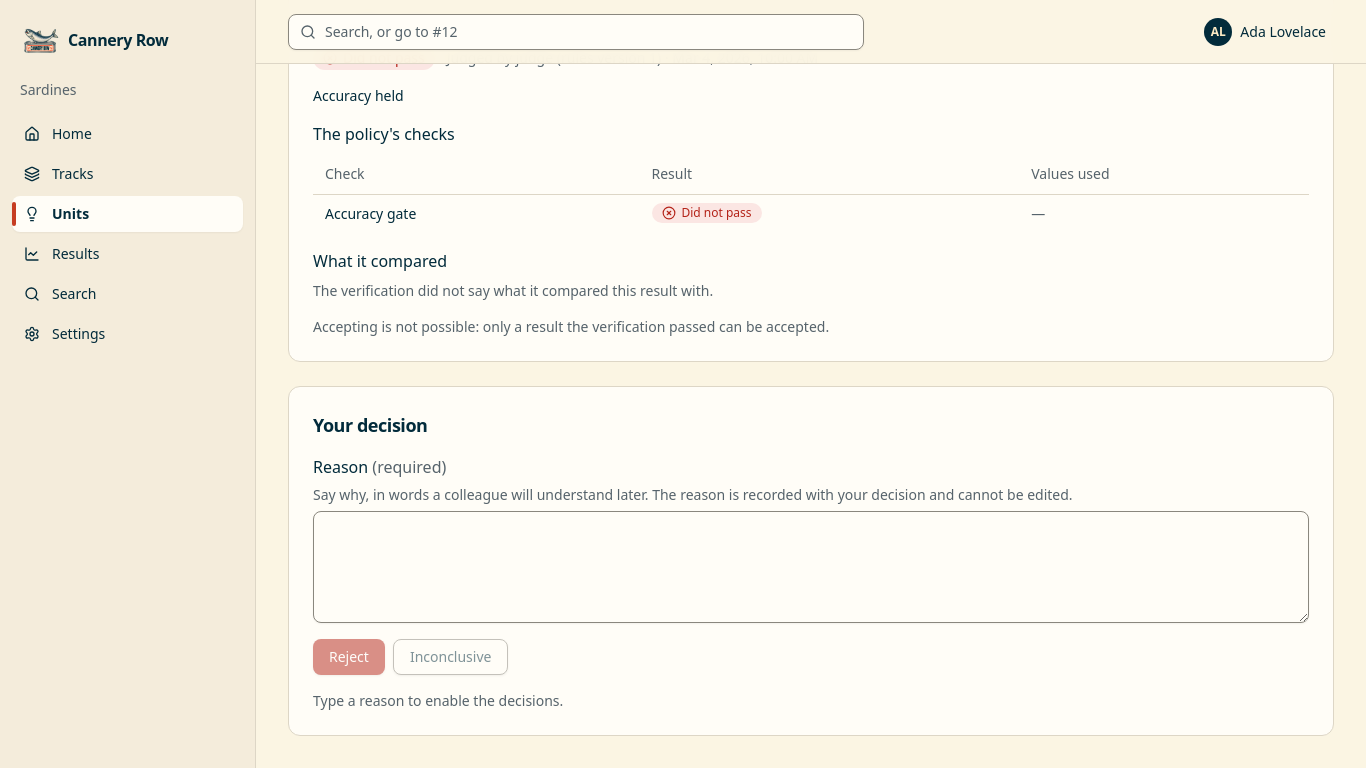
Test case: reviewing a result › shows a skipped write-up's reason and cites no write-up
The width and height of the screenshot is (1366, 768).
(page scrolled)
Type "Below the bar" into the text box labelled "Reason (required)" at (811, 567), box [313,511,1309,623]
(page scrolled)
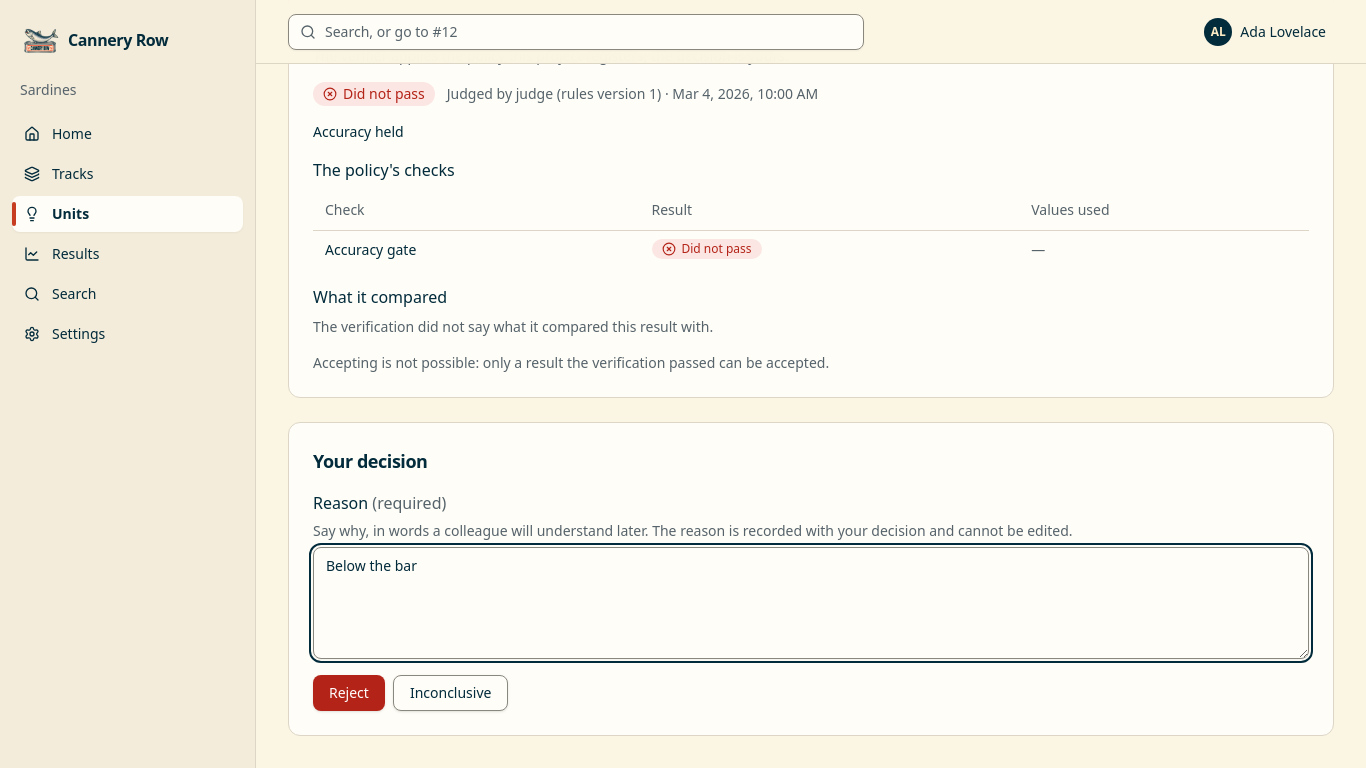
Click the button "Reject" at (349, 693), box [313,675,385,711]
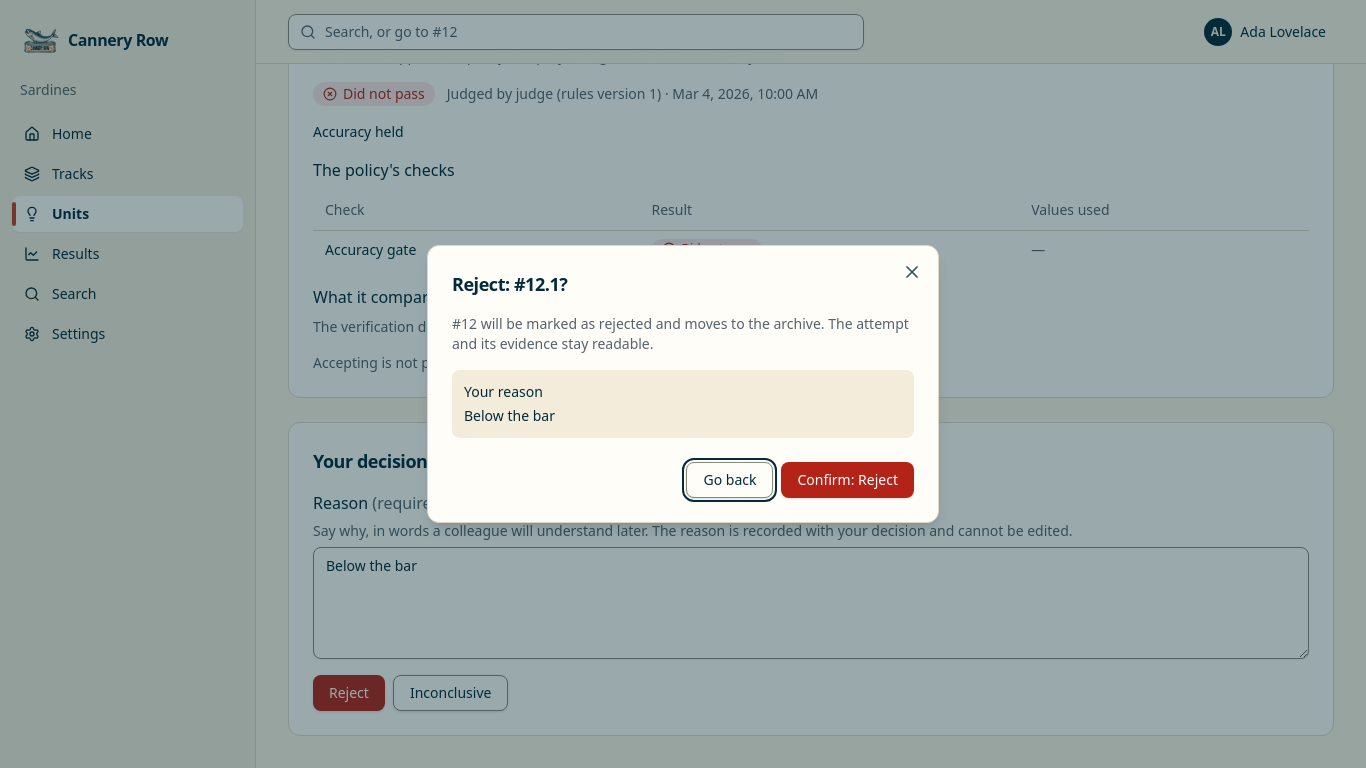
Click the button "Confirm: Reject" at (848, 480), box [781,462,914,498]
(page scrolled)
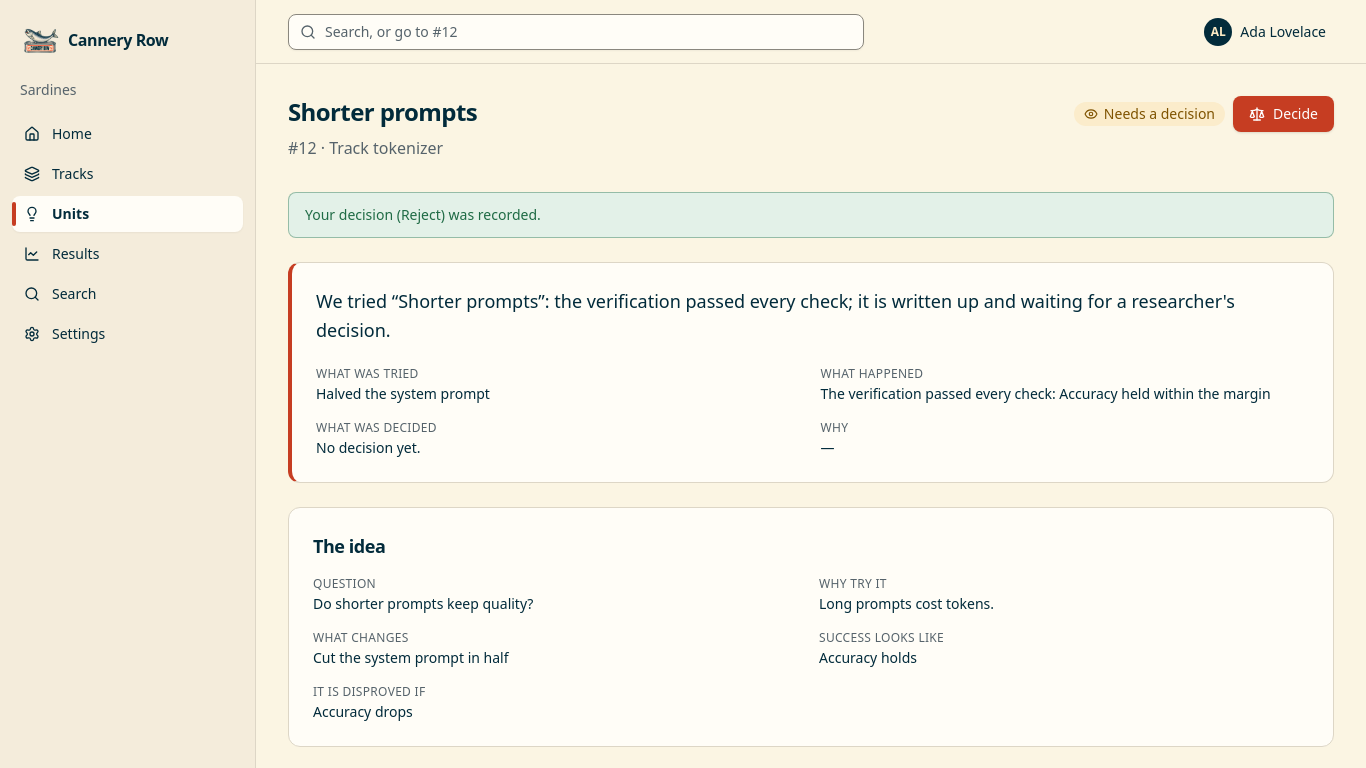
Expected: the text "Your decision (Reject) was recorded." is shown, [288,192,1334,238]
